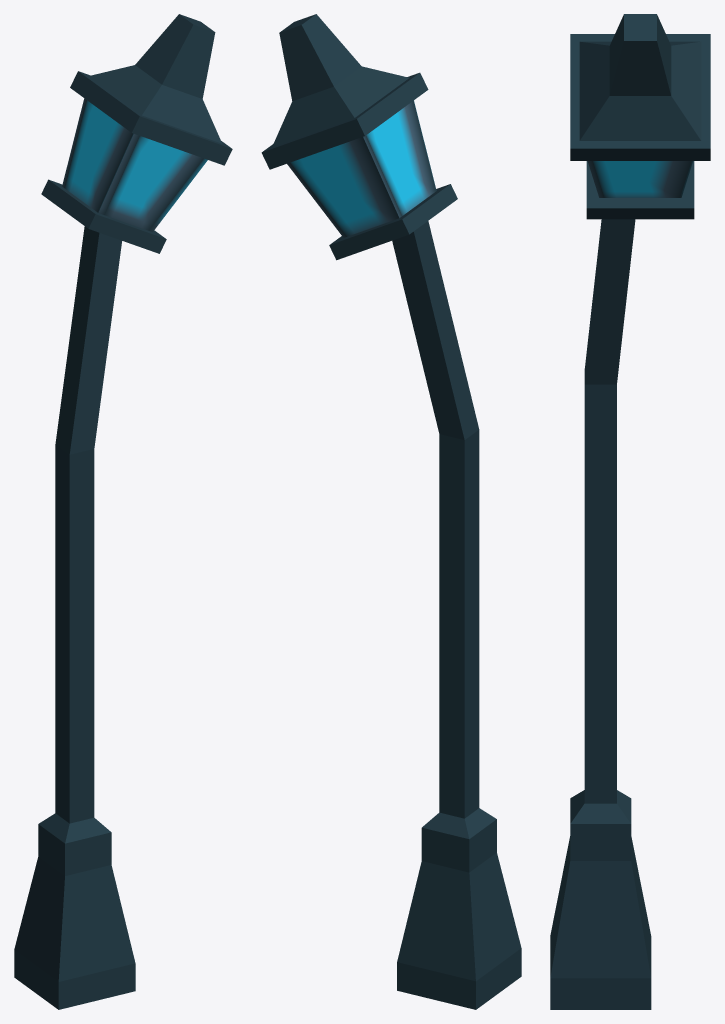
File: PosteDeLuzQuebrado.fbx
3 renders of one model, left to right at view 1: azimuth 30°, elevation 25°; view 2: azimuth 150°, elevation 25°; view 3: azimuth 270°, elevation 25°, orthographic. The views are drawn at different scales.
Parts seen in each view (by area): view 1: PosteDeLuzQuebrado; view 2: PosteDeLuzQuebrado; view 3: PosteDeLuzQuebrado.
Boxes of the visible parts, left/top/right/bottom form: PosteDeLuzQuebrado: left=14, top=14, right=232, bottom=1009; PosteDeLuzQuebrado: left=261, top=14, right=521, bottom=1009; PosteDeLuzQuebrado: left=550, top=14, right=710, bottom=1009.
Bounding box in the file's own units: 75.98 × 49.09 × 353.
